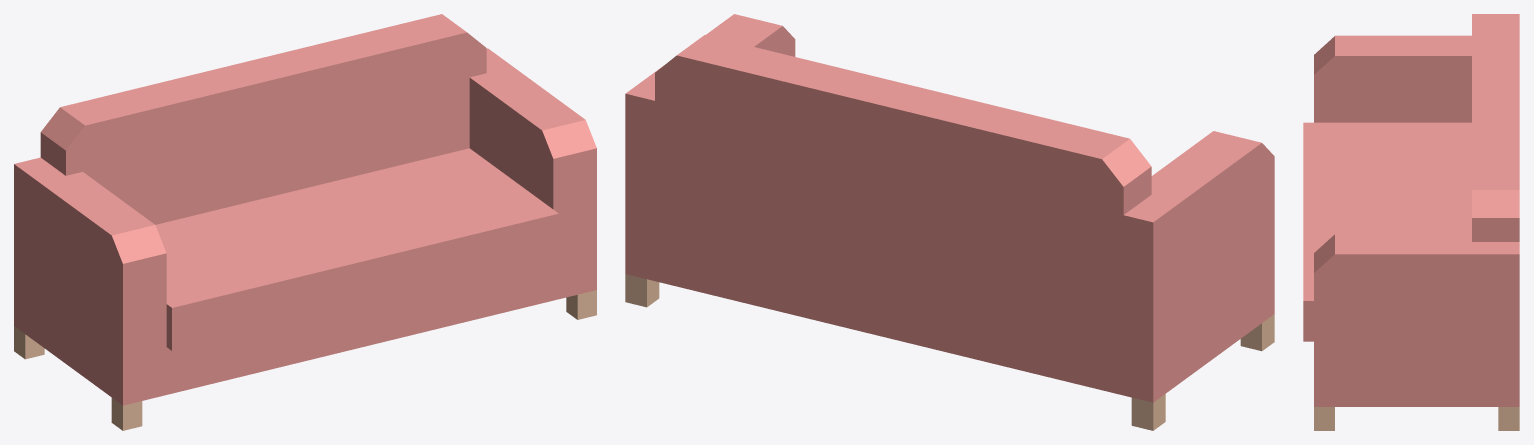
File: lounge_sofa.fbx
3 renders of one model, left to right at view 1: azimuth 30°, elevation 25°; view 2: azimuth 150°, elevation 25°; view 3: azimuth 270°, elevation 25°, orthographic. The views are drawn at different scales.
Visible parts, largest first — view 1: lounge_sofa; view 2: lounge_sofa; view 3: lounge_sofa.
Part boxes in pixels (x1=…): lounge_sofa: x1=14, y1=14, x2=596, y2=430; lounge_sofa: x1=625, y1=14, x2=1274, y2=430; lounge_sofa: x1=1303, y1=14, x2=1519, y2=430.
Size of the model in its own units: 2.1 by 0.9857 by 0.8786.
